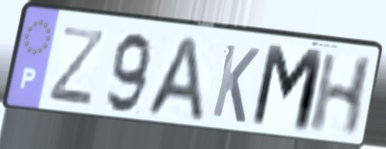9: (106, 29, 154, 116)
A: (141, 34, 207, 126)
H: (305, 52, 377, 139)
K: (208, 40, 263, 126)
M: (247, 41, 328, 138)
Z: (45, 24, 107, 110)
